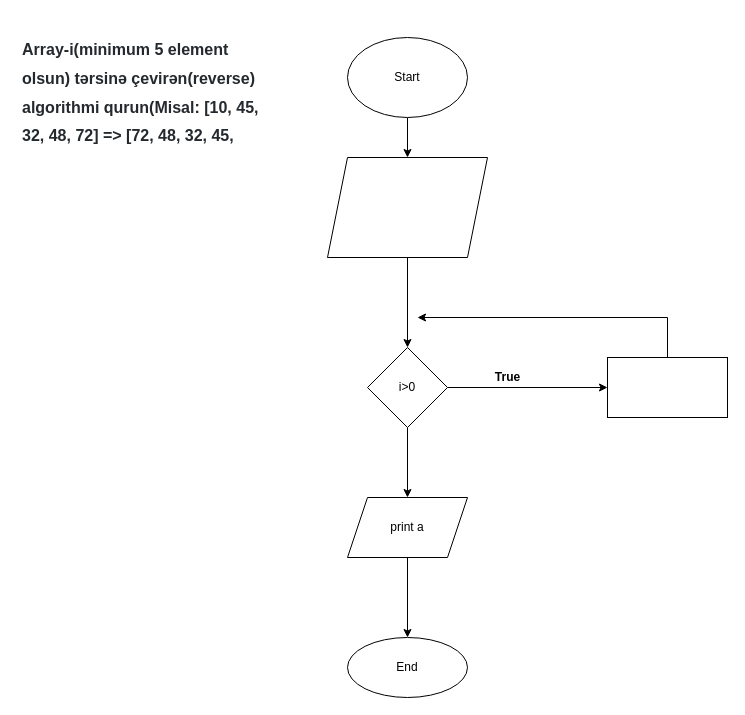
Some shapes in this 745 by 715 pixel diagram are drawn without their labels. Each missing label, with the box of its shape:
a.push.(b[]): (606, 356, 728, 418)
b={10,45,32,48,72} i=b.leng-1 a[]: (326, 156, 488, 258)
